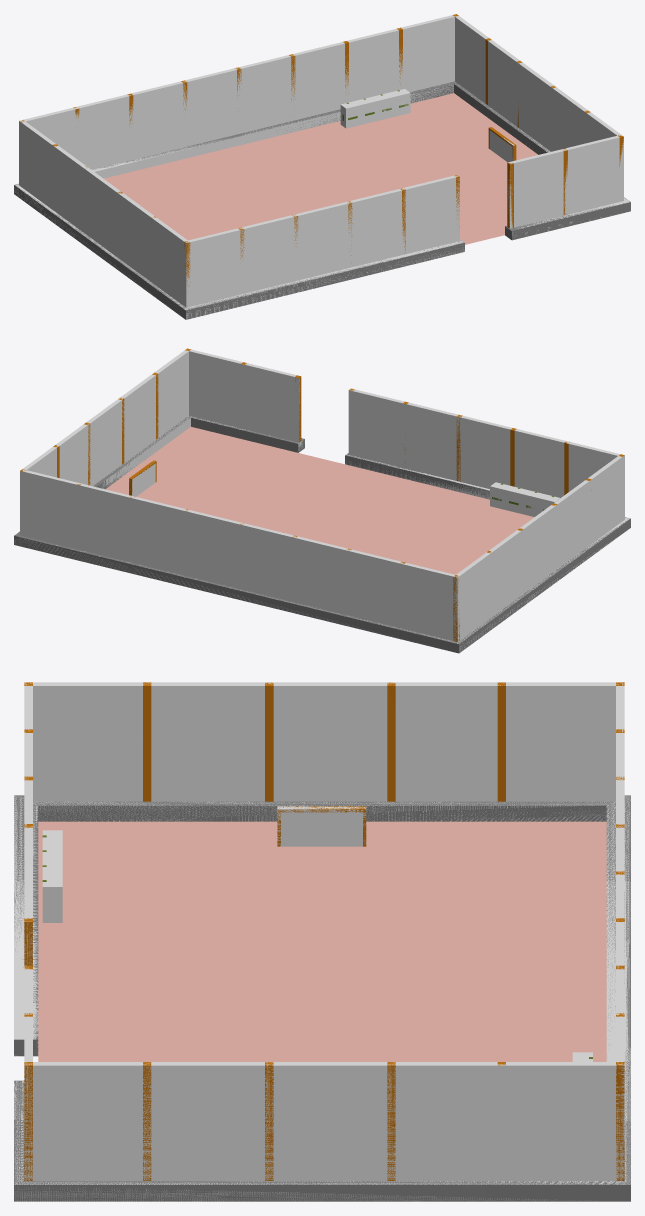
The model's file is SportFloor_B2_1_01.FBX.
The picture shows the model from 3 angles, top to bottom: view 1: azimuth 30°, elevation 25°; view 2: azimuth 150°, elevation 25°; view 3: azimuth 270°, elevation 25°; orthographic projection. The views are drawn at different scales.
Visible parts, largest first — view 1: SportFloor_B2_Damage_1_01, SportFloor_B2_Live_1_01; view 2: SportFloor_B2_Damage_1_01, SportFloor_B2_Live_1_01; view 3: SportFloor_B2_Live_1_01, SportFloor_B2_Damage_1_01.
Part boxes in pixels (<box>): SportFloor_B2_Damage_1_01: <box>14,15,629,319</box>; SportFloor_B2_Live_1_01: <box>14,14,630,319</box>; SportFloor_B2_Damage_1_01: <box>14,349,629,651</box>; SportFloor_B2_Live_1_01: <box>14,348,630,653</box>; SportFloor_B2_Live_1_01: <box>14,682,630,1201</box>; SportFloor_B2_Damage_1_01: <box>14,682,630,1201</box>.
Bounding box in the file's own units: 30.2 × 4.79 × 20.2.
